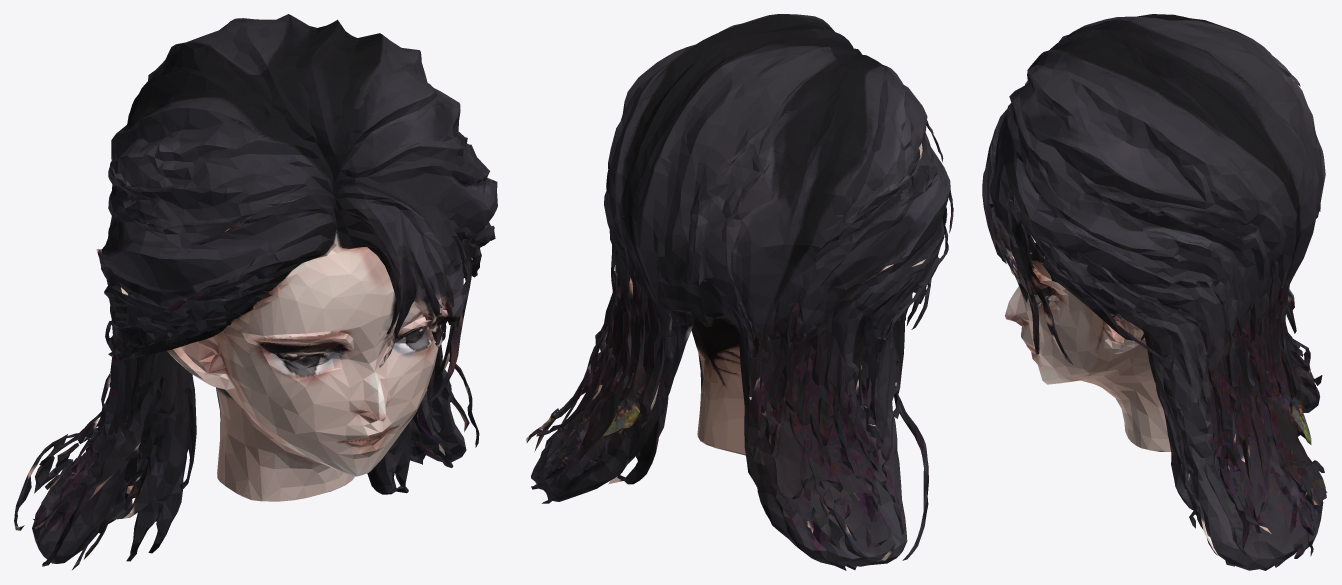
Rendered from side_courtier_repaired_atlas.glb.
The picture shows the model from 3 angles, left to right: view 1: azimuth 30°, elevation 25°; view 2: azimuth 150°, elevation 25°; view 3: azimuth 270°, elevation 25°; orthographic projection. The views are drawn at different scales.
Parts seen in each view (by area): view 1: temp_mesh.ply; view 2: temp_mesh.ply; view 3: temp_mesh.ply.
Boxes of the visible parts, bbox=[...] form: temp_mesh.ply: bbox=[14, 14, 497, 569]; temp_mesh.ply: bbox=[526, 14, 953, 570]; temp_mesh.ply: bbox=[982, 14, 1327, 570].
Bounding box in the file's own units: 1.71 × 1.97 × 1.36.
Materials: 1 (1 with a texture image).
